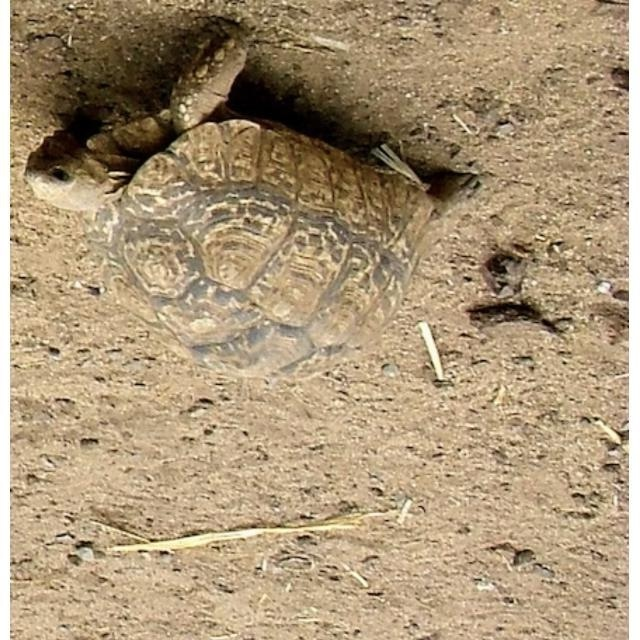turtle: (24, 16, 486, 381)
